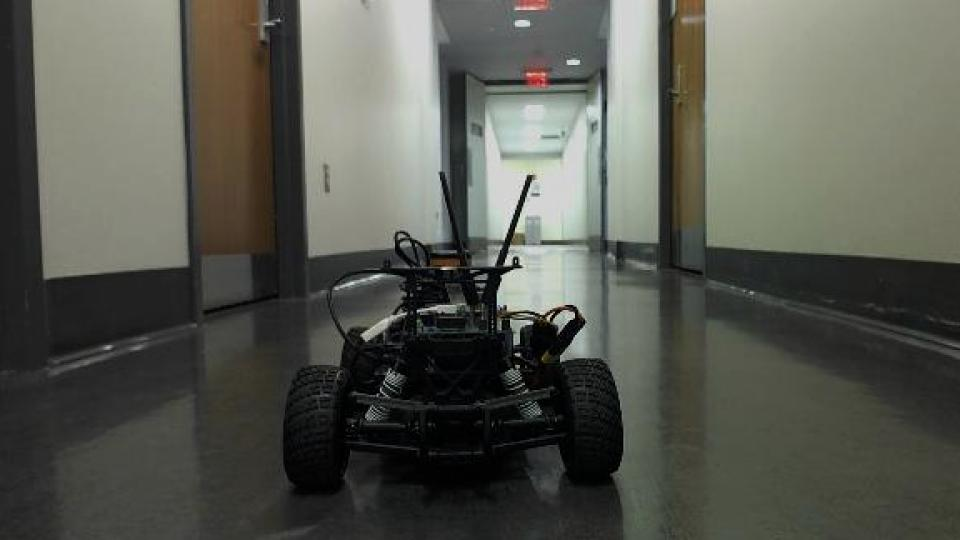car: (279, 168, 628, 495)
